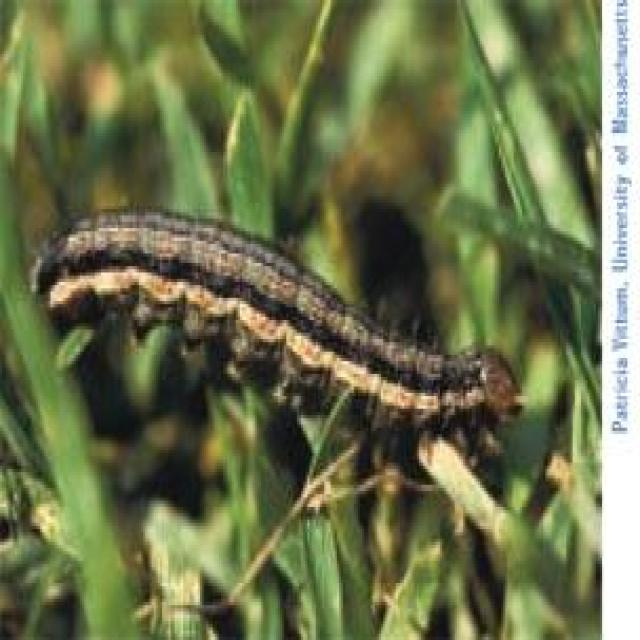pest-armyworm: (25, 198, 524, 463)
